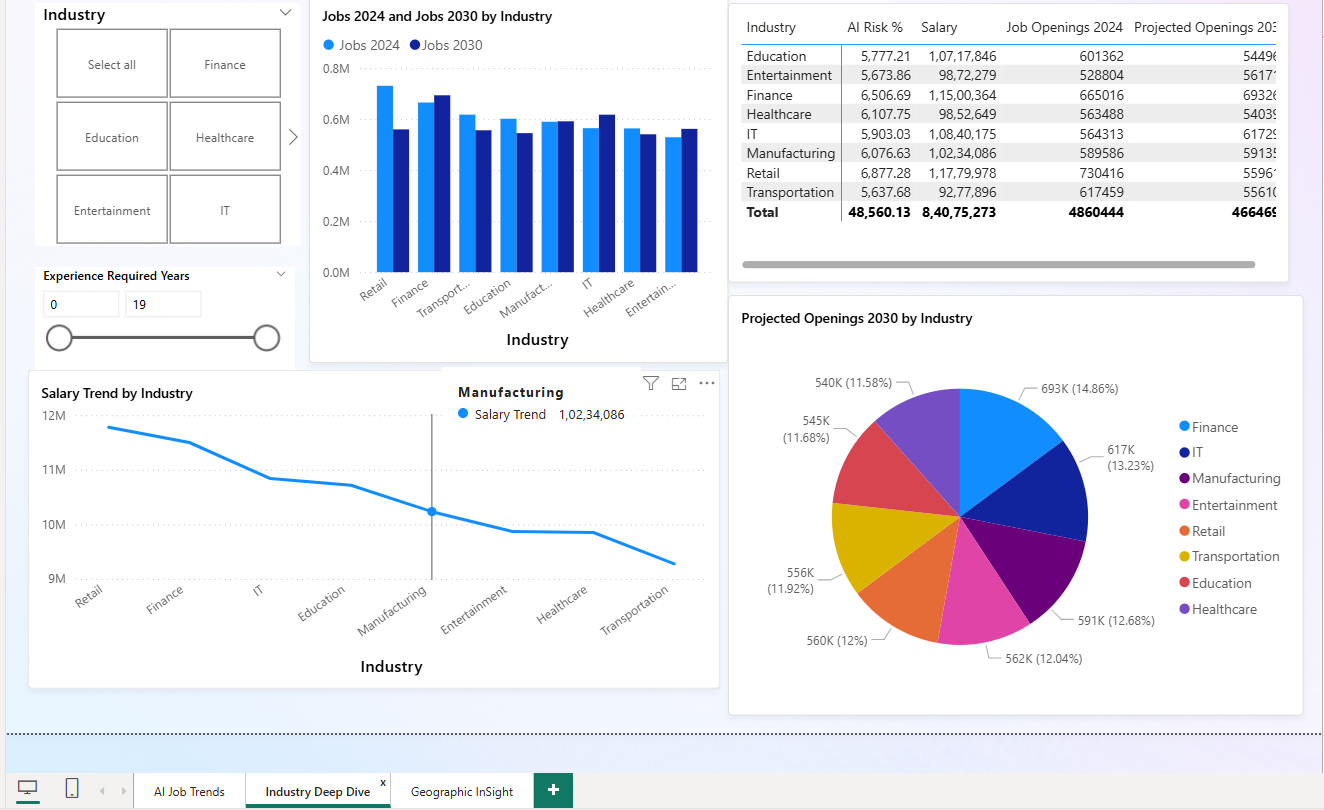

What the dashboard file says about the page in this screenshot:
{"tool":"powerbi","page":{"name":"Industry Deep Dive","canvas":[1280,720],"ordinal":1},"visuals":[{"type":"slicer","fields":{"Values":["sample_ai_job_trends_dataset.Industry"]},"box":[28.2,9.7,257.8,236.4],"z":0},{"type":"slicer","fields":{"Values":["sample_ai_job_trends_dataset.Experience Required Years"]},"box":[28.2,266.5,251.9,100.2],"z":1000},{"type":"clusteredColumnChart","fields":{"Category":["sample_ai_job_trends_dataset.Industry"],"Y":["Sum(sample_ai_job_trends_dataset.Job Openings 2024)","Sum(sample_ai_job_trends_dataset.Projected Openings 2030)"]},"box":[294.7,0,407.5,359.9],"z":2000},{"type":"lineChart","fields":{"Y":["Sum(sample_ai_job_trends_dataset.Median Salary USD)"],"Category":["sample_ai_job_trends_dataset.Industry"]},"box":[21.4,366.7,673.1,310.3],"z":3000},{"type":"pivotTable","fields":{"Rows":["sample_ai_job_trends_dataset.Industry"],"Values":["Sum(sample_ai_job_trends_dataset.Automation Risk %)","Sum(sample_ai_job_trends_dataset.Median Salary USD)","Sum(sample_ai_job_trends_dataset.Job Openings 2024)","Sum(sample_ai_job_trends_dataset.Projected Openings 2030)"]},"box":[702.2,9.7,545.7,272.3],"z":4000},{"type":"pieChart","fields":{"Category":["sample_ai_job_trends_dataset.Industry"],"Y":["Sum(sample_ai_job_trends_dataset.Projected Openings 2030)"]},"box":[702.2,293.7,560.2,409.5],"z":5000}]}

Visuals, with their boxes on the page's 1280x720 design canvas (x1, y1, x2, y2). These are canvas units, not pixel positions in the 1324x810 screenshot, which may show the page scaled, cropped or inside an application window:
slicer - sample_ai_job_trends_dataset.Industry: detection(28, 10, 286, 246)
slicer - sample_ai_job_trends_dataset.Experience Required Years: detection(28, 266, 280, 367)
clusteredColumnChart - sample_ai_job_trends_dataset.Industry x Sum(sample_ai_job_trends_dataset.Job Openings 2024): detection(295, 0, 702, 360)
lineChart - Sum(sample_ai_job_trends_dataset.Median Salary USD) x sample_ai_job_trends_dataset.Industry: detection(21, 367, 694, 677)
pivotTable - sample_ai_job_trends_dataset.Industry x Sum(sample_ai_job_trends_dataset.Automation Risk %): detection(702, 10, 1248, 282)
pieChart - sample_ai_job_trends_dataset.Industry x Sum(sample_ai_job_trends_dataset.Projected Openings 2030): detection(702, 294, 1262, 703)
